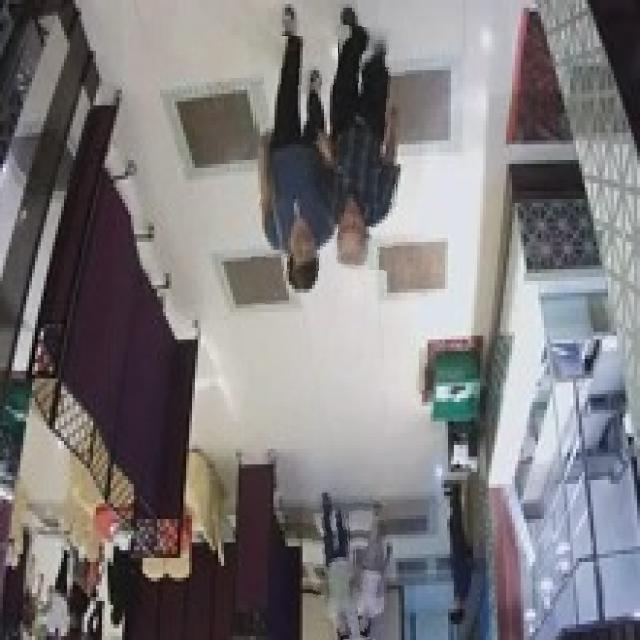normal: (252, 36, 338, 305), (330, 26, 404, 270), (426, 474, 483, 631), (313, 490, 357, 640), (352, 500, 386, 638)
